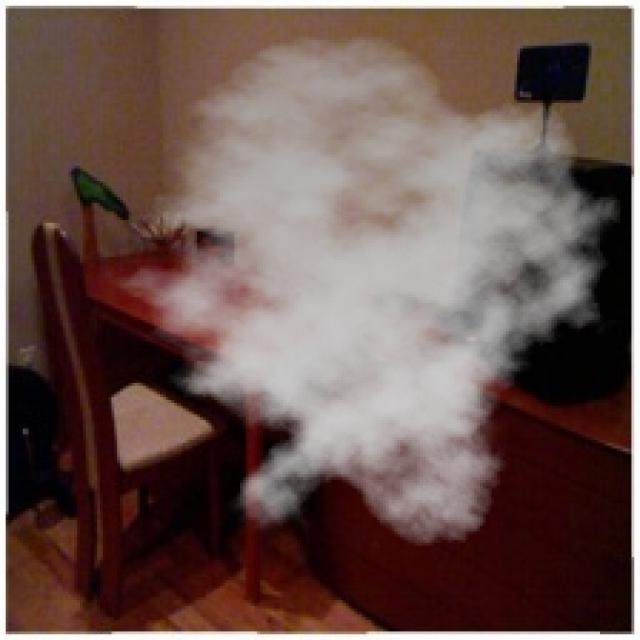smoke: (91, 34, 634, 549)
